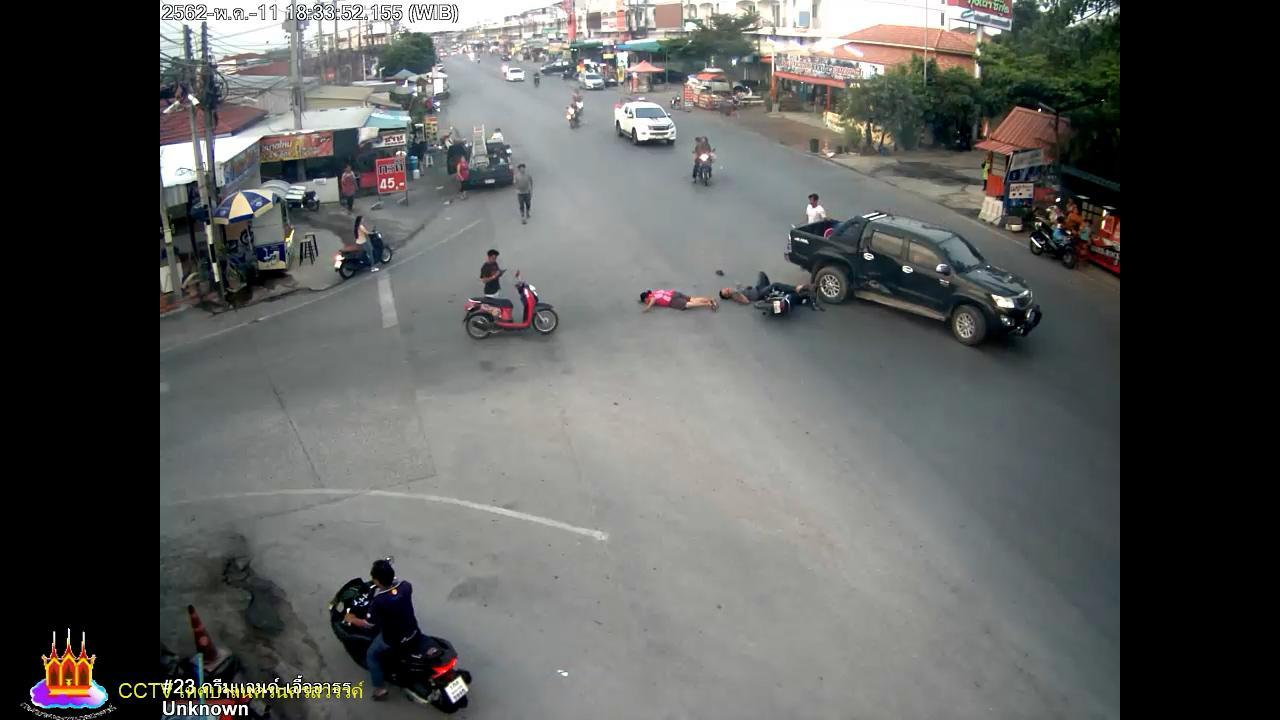accident: (636, 284, 718, 318), (719, 268, 784, 306)
